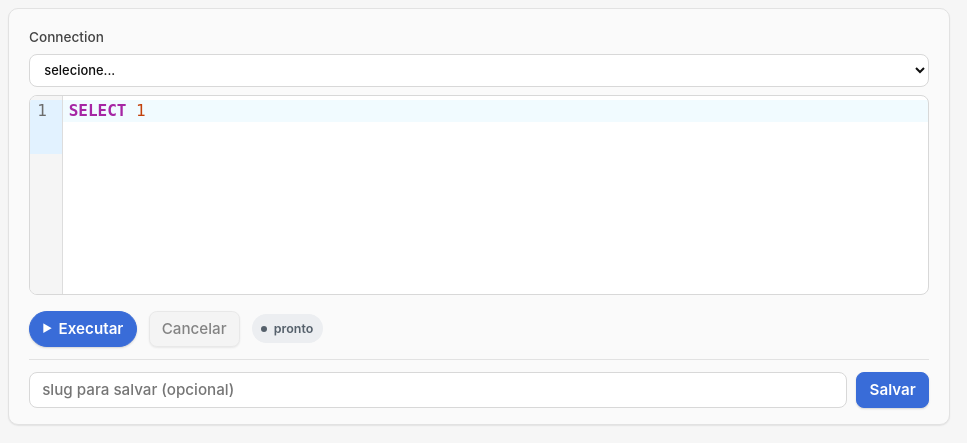
AdhocQueryBlock › shows an inline error when queryCreate rejects
Select "Postgres Local (queryboard_local)" in the dropdown labelled "Connection". click: {"x": 479, "y": 70}
box: [29,54,929,87]
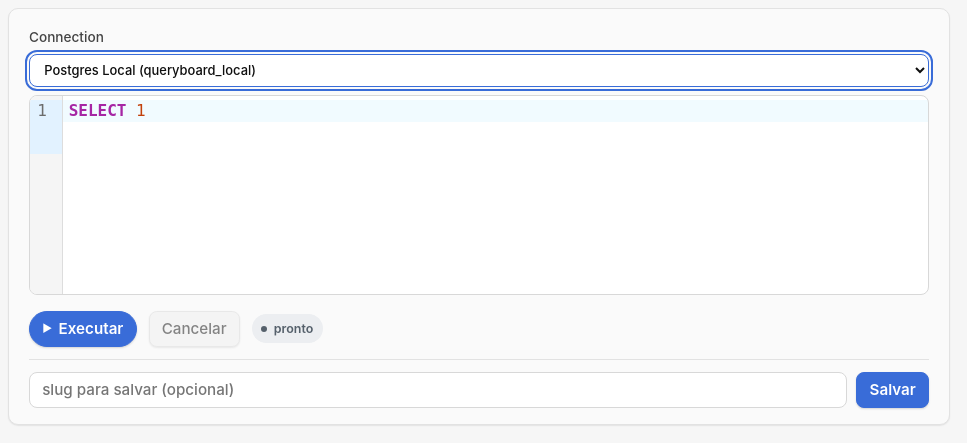
Type "x" into the field labelled "slug para salvar". click: {"x": 438, "y": 390}
box: [29,372,847,408]
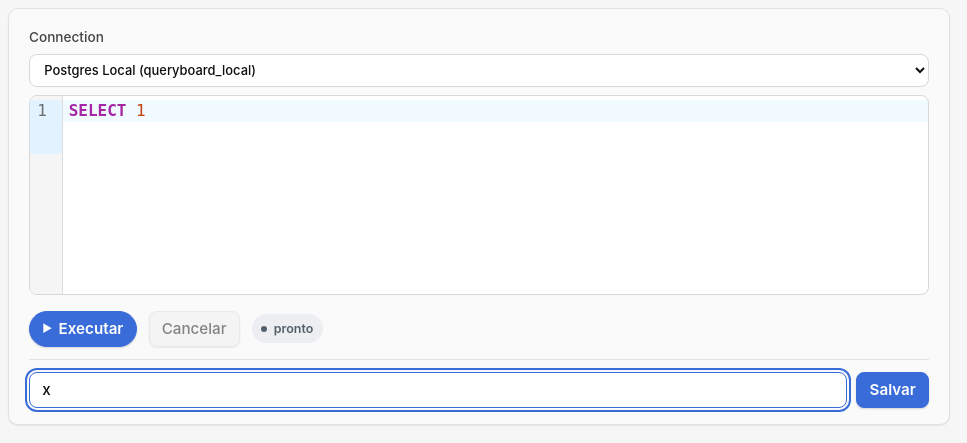
Click the button "Salvar". click: {"x": 893, "y": 390}
box: [856,372,929,408]
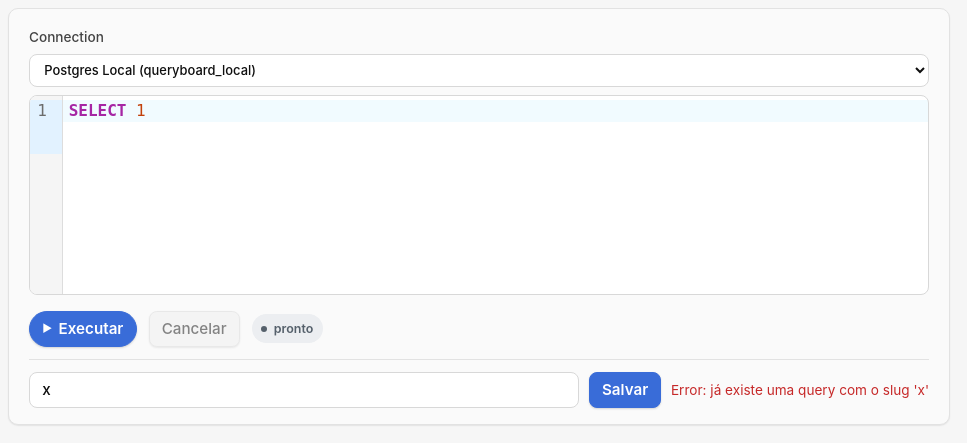
Result: the message "Error: já existe uma query com o slug 'x'" is shown at [671,378,929,402]
